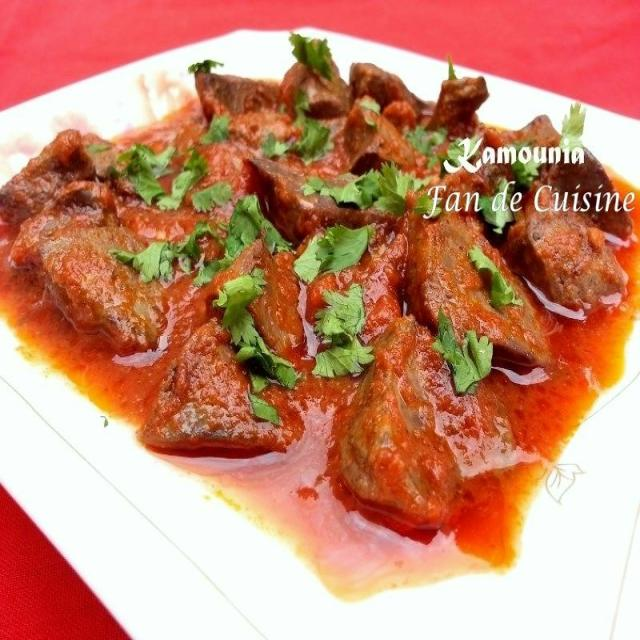kamouniya: (5, 49, 639, 561)
